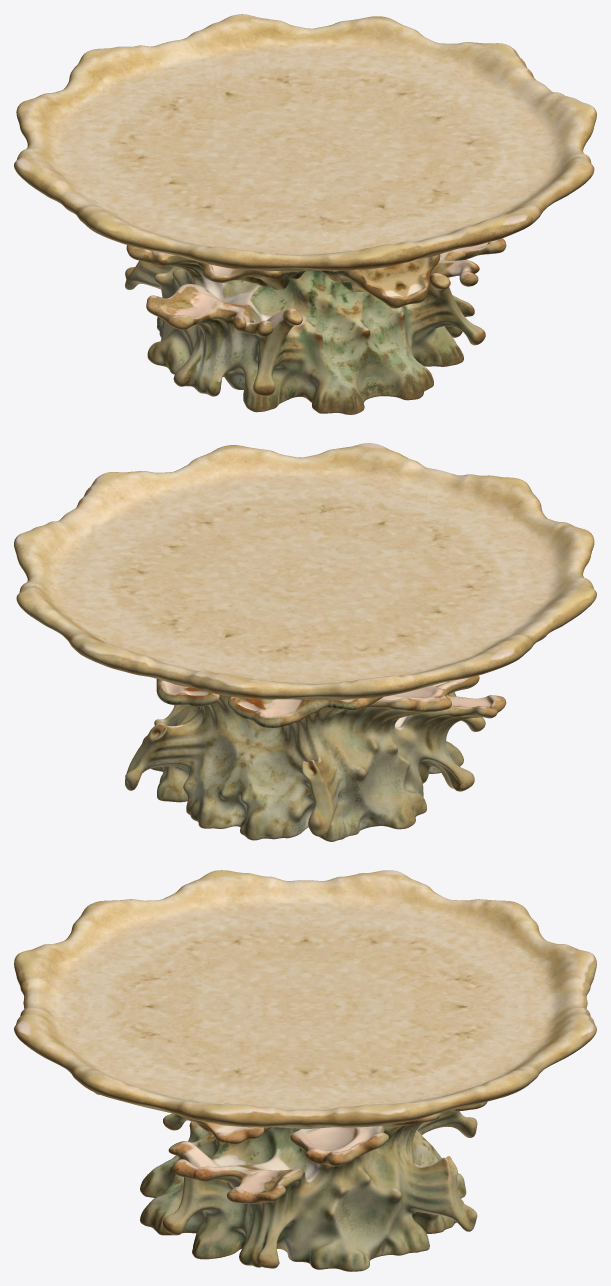
Rendered from table_coral.glb.
3 renders of one model, top to bottom at view 1: azimuth 30°, elevation 25°; view 2: azimuth 150°, elevation 25°; view 3: azimuth 270°, elevation 25°, orthographic.
Size of the model in its own units: 1.9 by 0.7813 by 1.9.
1 material, 1 textured.
